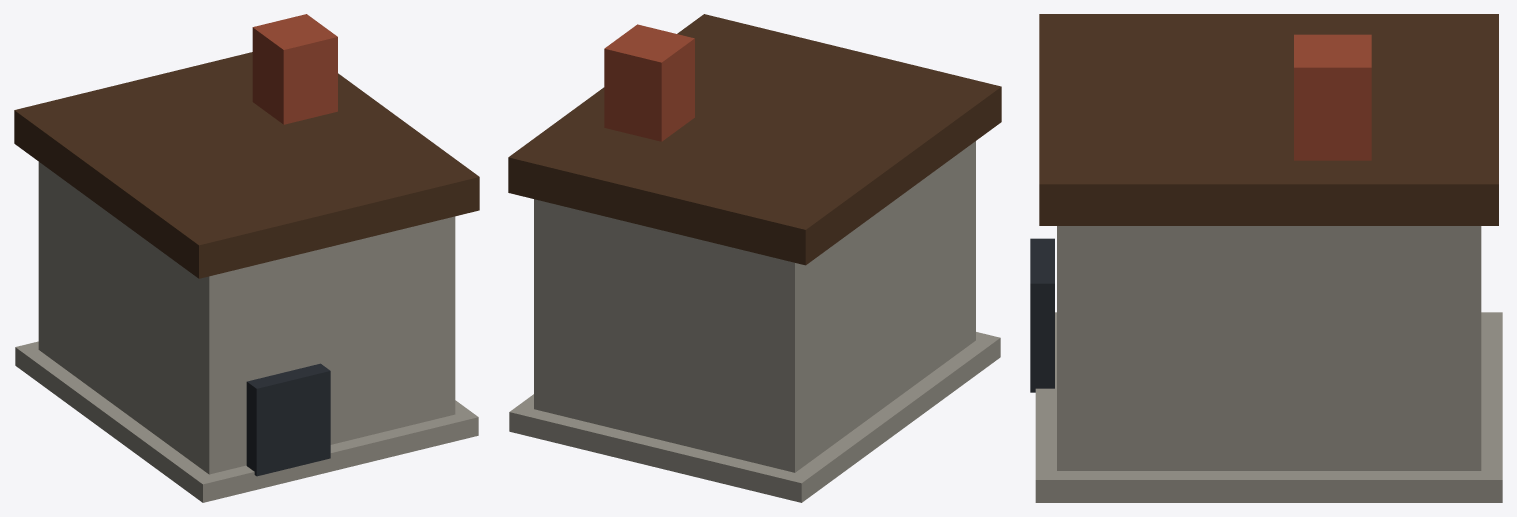
The model's file is bld_industrial_a03_lod2.glb.
The picture shows the model from 3 angles, left to right: view 1: azimuth 30°, elevation 25°; view 2: azimuth 150°, elevation 25°; view 3: azimuth 270°, elevation 25°; orthographic projection. The views are drawn at different scales.
Visible parts, largest first — view 1: body; view 2: body; view 3: body.
Part boxes in pixels (box(x1,y1,x2,y2)): body: box(14, 14, 479, 502); body: box(508, 14, 1001, 502); body: box(1030, 14, 1502, 502).
Bounding box in the file's own units: 5.7 × 6.44 × 6.67.
